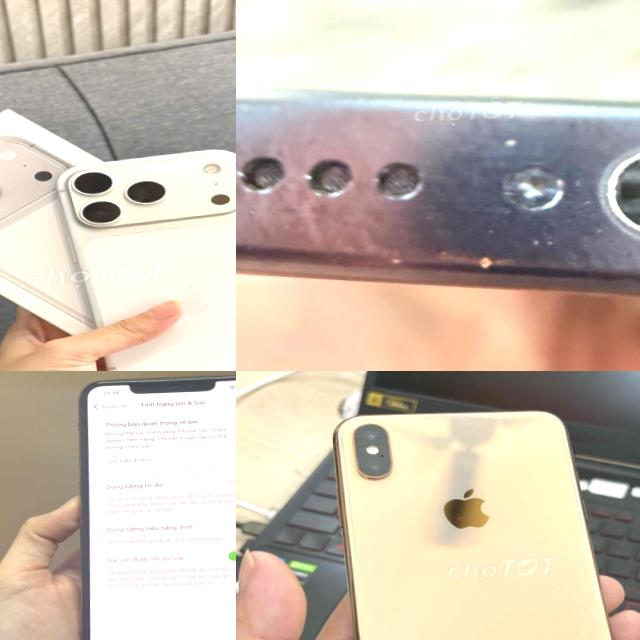scratch: (236, 73, 522, 183), (236, 187, 505, 283), (526, 150, 626, 254), (340, 449, 375, 480)
